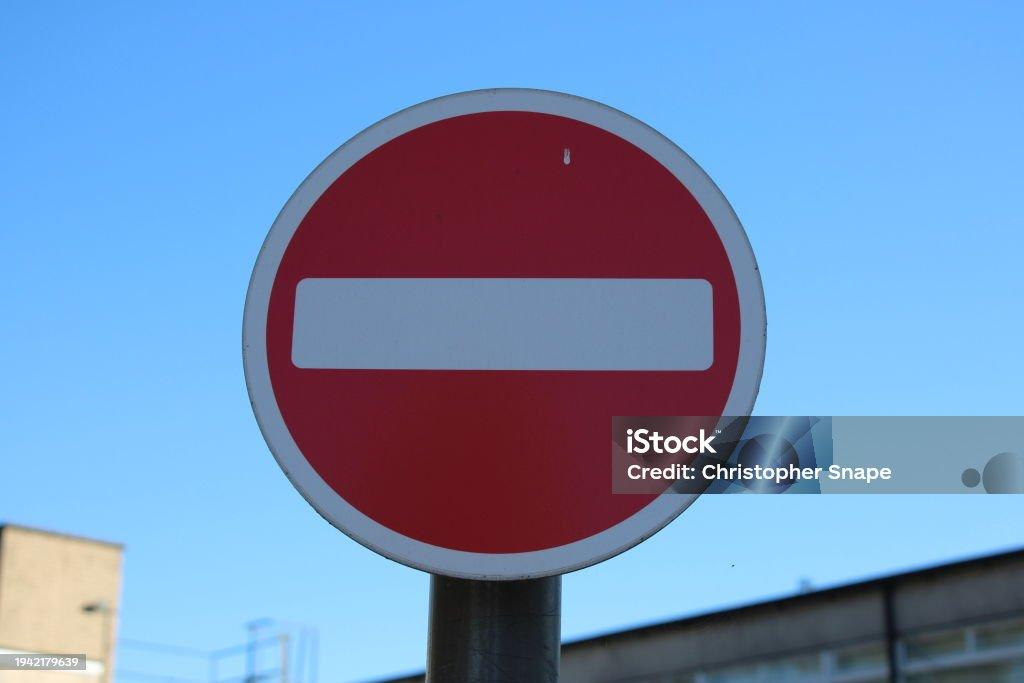no-entry: (233, 89, 766, 576)
